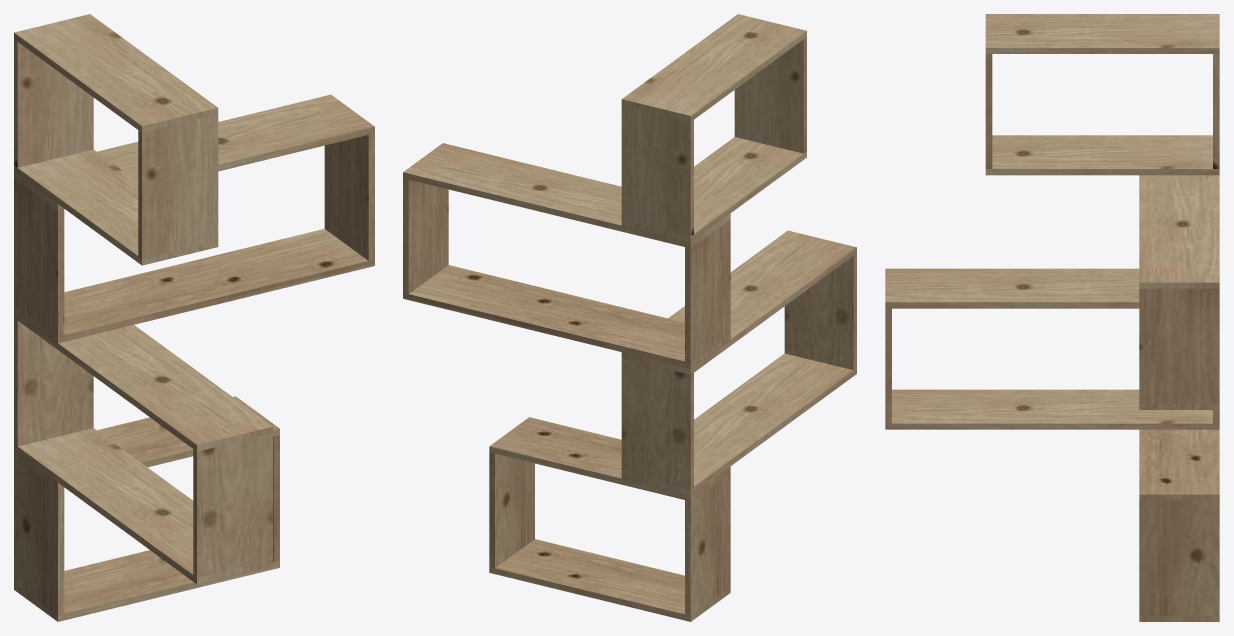
The model's file is Etagère murale.fbx.
The picture shows the model from 3 angles, left to right: view 1: azimuth 30°, elevation 25°; view 2: azimuth 150°, elevation 25°; view 3: azimuth 270°, elevation 25°; orthographic projection. The views are drawn at different scales.
Visible parts, largest first — view 1: Bois - Pin granuleux horizontal, Bois - Pin granuleux vertical; view 2: Bois - Pin granuleux horizontal, Bois - Pin granuleux vertical; view 3: Bois - Pin granuleux horizontal, Bois - Pin granuleux vertical.
Boxes of the visible parts, box(x1,y1,x2,y2) form: Bois - Pin granuleux horizontal: box(14, 14, 374, 621); Bois - Pin granuleux vertical: box(14, 39, 374, 615); Bois - Pin granuleux horizontal: box(403, 14, 856, 621); Bois - Pin granuleux vertical: box(403, 37, 856, 615); Bois - Pin granuleux horizontal: box(885, 14, 1219, 621); Bois - Pin granuleux vertical: box(885, 54, 1219, 615).
Bounding box in the file's own units: 50 × 50 × 84.
Materials: 2 (2 with a texture image).
